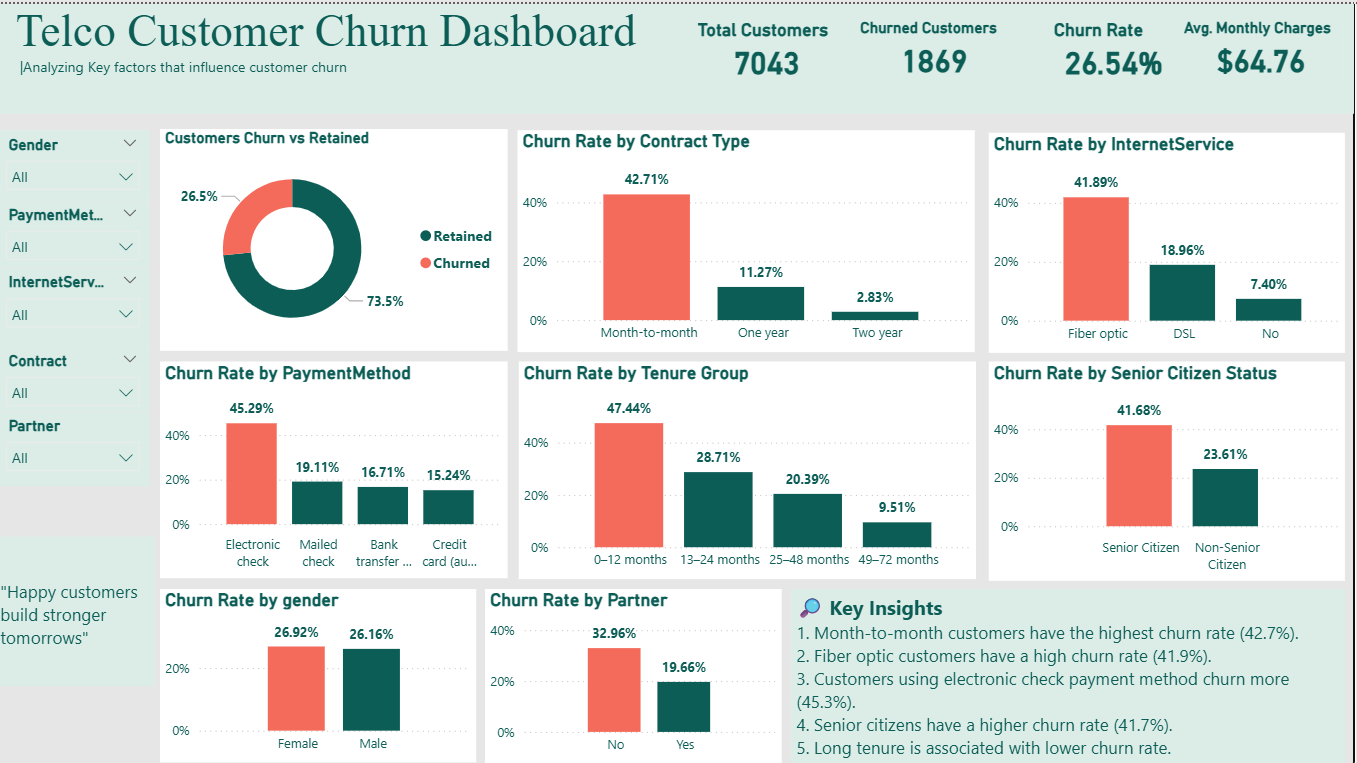

This screenshot's page, from the dashboard's own definition file:
{"tool":"powerbi","page":{"name":"Page 1","canvas":[1280,720],"ordinal":0},"visuals":[{"type":"textbox","box":[0,0,1280,108.2],"z":0},{"type":"card","title":"Churned Customers","fields":{"Values":["vw_TelcoChurn_Cleaned.Churned Customer"]},"box":[809.4,18.8,149.4,60],"z":500},{"type":"card","box":[10,2280,2180,600],"z":2000},{"type":"card","title":"Total Customers","fields":{"Values":["vw_TelcoChurn_Cleaned.Total Customers"]},"box":[656.5,18.8,140,60],"z":3000},{"type":"card","title":"Avg. Monthly Charges","fields":{"Values":["vw_TelcoChurn_Cleaned.Avg. Monthly Charges"]},"box":[1114.1,18.8,155.3,60],"z":4000},{"type":"card","title":"Churn Rate","fields":{"Values":["vw_TelcoChurn_Cleaned.Churn Rate"]},"box":[991.8,18.8,122.4,60],"z":4500},{"type":"donutChart","title":"Customers Churn vs Retained","fields":{"Category":["vw_TelcoChurn_Cleaned.Churn Status"],"Y":["vw_TelcoChurn_Cleaned.Total Customers"]},"box":[155.7,122.9,327.1,208.6],"z":5000},{"type":"clusteredColumnChart","title":"Churn Rate by Contract Type","fields":{"Category":["vw_TelcoChurn_Cleaned.Contract"],"Y":["vw_TelcoChurn_Cleaned.Churn Rate"]},"box":[492.2,123.3,430,208.9],"z":6000},{"type":"clusteredColumnChart","fields":{"Category":["vw_TelcoChurn_Cleaned.InternetService"],"Y":["vw_TelcoChurn_Cleaned.Churn Rate"]},"box":[935.3,125.9,335.3,207.1],"z":7000},{"type":"clusteredColumnChart","fields":{"Category":["vw_TelcoChurn_Cleaned.PaymentMethod"],"Y":["vw_TelcoChurn_Cleaned.Churn Rate"]},"box":[155.7,341.4,327.1,204.3],"z":8000},{"type":"clusteredColumnChart","fields":{"Category":["vw_TelcoChurn_Cleaned.Tenure Group"],"Y":["vw_TelcoChurn_Cleaned.Churn Rate"]},"box":[492.5,341.2,430,205],"z":9000},{"type":"clusteredColumnChart","fields":{"Category":["vw_TelcoChurn_Cleaned.Senior Citizen Status"],"Y":["vw_TelcoChurn_Cleaned.Churn Rate"]},"box":[935,341.2,335,206.2],"z":10000},{"type":"clusteredColumnChart","fields":{"Category":["vw_TelcoChurn_Cleaned.gender"],"Y":["vw_TelcoChurn_Cleaned.Churn Rate"]},"box":[155.3,555.3,297.6,163.5],"z":11000},{"type":"clusteredColumnChart","fields":{"Category":["vw_TelcoChurn_Cleaned.Partner"],"Y":["vw_TelcoChurn_Cleaned.Churn Rate"]},"box":[461.2,555.3,278.8,164.7],"z":12000},{"type":"slicer","fields":{"Values":["vw_TelcoChurn_Cleaned.Contract"]},"box":[0,327.1,145.9,61.2],"z":13000},{"type":"slicer","fields":{"Values":["vw_TelcoChurn_Cleaned.InternetService"]},"box":[0,252.9,145.9,74.1],"z":14000},{"type":"slicer","fields":{"Values":["vw_TelcoChurn_Cleaned.PaymentMethod"]},"box":[0,189.4,145.9,63.5],"z":15000},{"type":"textbox","box":[748.9,555.7,521.6,164.8],"z":16000},{"type":"slicer","fields":{"Values":["vw_TelcoChurn_Cleaned.gender"]},"box":[0,123.5,145.9,65.9],"z":17000},{"type":"textbox","box":[0,505.9,150.6,141.2],"z":18000},{"type":"slicer","fields":{"Values":["vw_TelcoChurn_Cleaned.Partner"]},"box":[0,388.2,145.9,70.6],"z":19000}]}

Visuals, with their boxes in screenshot pixels (x1, y1, x2, y2), scaled from the page's 1280x720 canvas onto the 1357x763 screenshot:
textbox: detection(0, 0, 1356, 115)
"Churned Customers" card: detection(858, 20, 1016, 84)
"Total Customers" card: detection(696, 20, 844, 84)
"Avg. Monthly Charges" card: detection(1181, 20, 1346, 84)
"Churn Rate" card: detection(1051, 20, 1181, 84)
"Customers Churn vs Retained" donutChart: detection(165, 130, 512, 351)
"Churn Rate by Contract Type" clusteredColumnChart: detection(522, 131, 978, 352)
clusteredColumnChart - vw_TelcoChurn_Cleaned.InternetService x vw_TelcoChurn_Cleaned.Churn Rate: detection(992, 133, 1347, 353)
clusteredColumnChart - vw_TelcoChurn_Cleaned.PaymentMethod x vw_TelcoChurn_Cleaned.Churn Rate: detection(165, 362, 512, 578)
clusteredColumnChart - vw_TelcoChurn_Cleaned.Tenure Group x vw_TelcoChurn_Cleaned.Churn Rate: detection(522, 362, 978, 579)
clusteredColumnChart - vw_TelcoChurn_Cleaned.Senior Citizen Status x vw_TelcoChurn_Cleaned.Churn Rate: detection(991, 362, 1346, 580)
clusteredColumnChart - vw_TelcoChurn_Cleaned.gender x vw_TelcoChurn_Cleaned.Churn Rate: detection(165, 588, 480, 762)
clusteredColumnChart - vw_TelcoChurn_Cleaned.Partner x vw_TelcoChurn_Cleaned.Churn Rate: detection(489, 588, 785, 762)
slicer - vw_TelcoChurn_Cleaned.Contract: detection(0, 347, 155, 411)
slicer - vw_TelcoChurn_Cleaned.InternetService: detection(0, 268, 155, 347)
slicer - vw_TelcoChurn_Cleaned.PaymentMethod: detection(0, 201, 155, 268)
textbox: detection(794, 589, 1347, 762)
slicer - vw_TelcoChurn_Cleaned.gender: detection(0, 131, 155, 201)
textbox: detection(0, 536, 160, 686)
slicer - vw_TelcoChurn_Cleaned.Partner: detection(0, 411, 155, 486)
